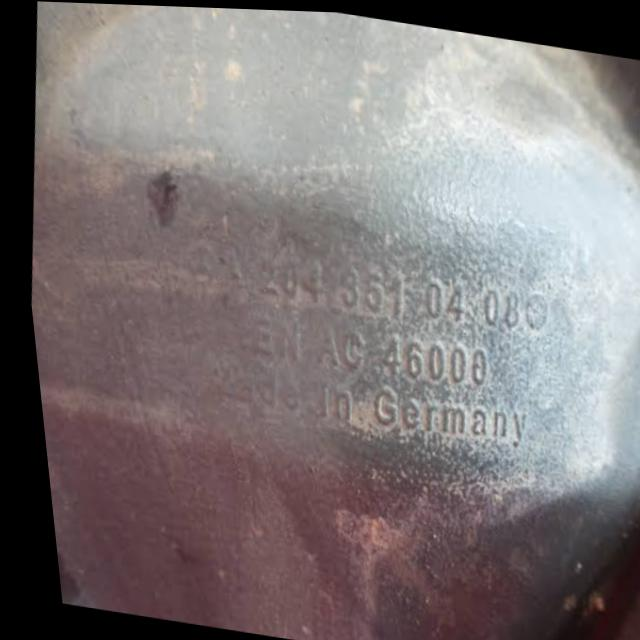ocr: (246, 241, 554, 340), (235, 308, 490, 396)
